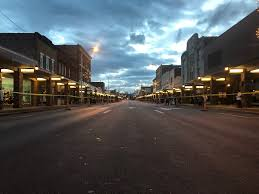strada: (1, 95, 259, 192)
